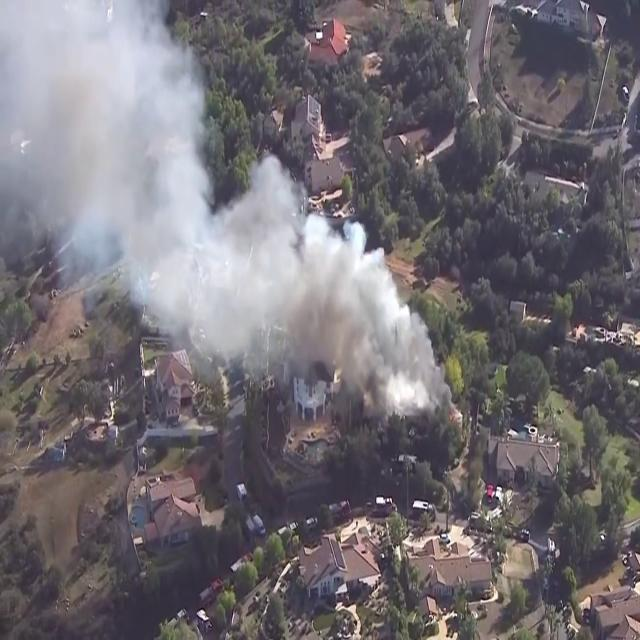Smoke: (0, 2, 450, 425)
